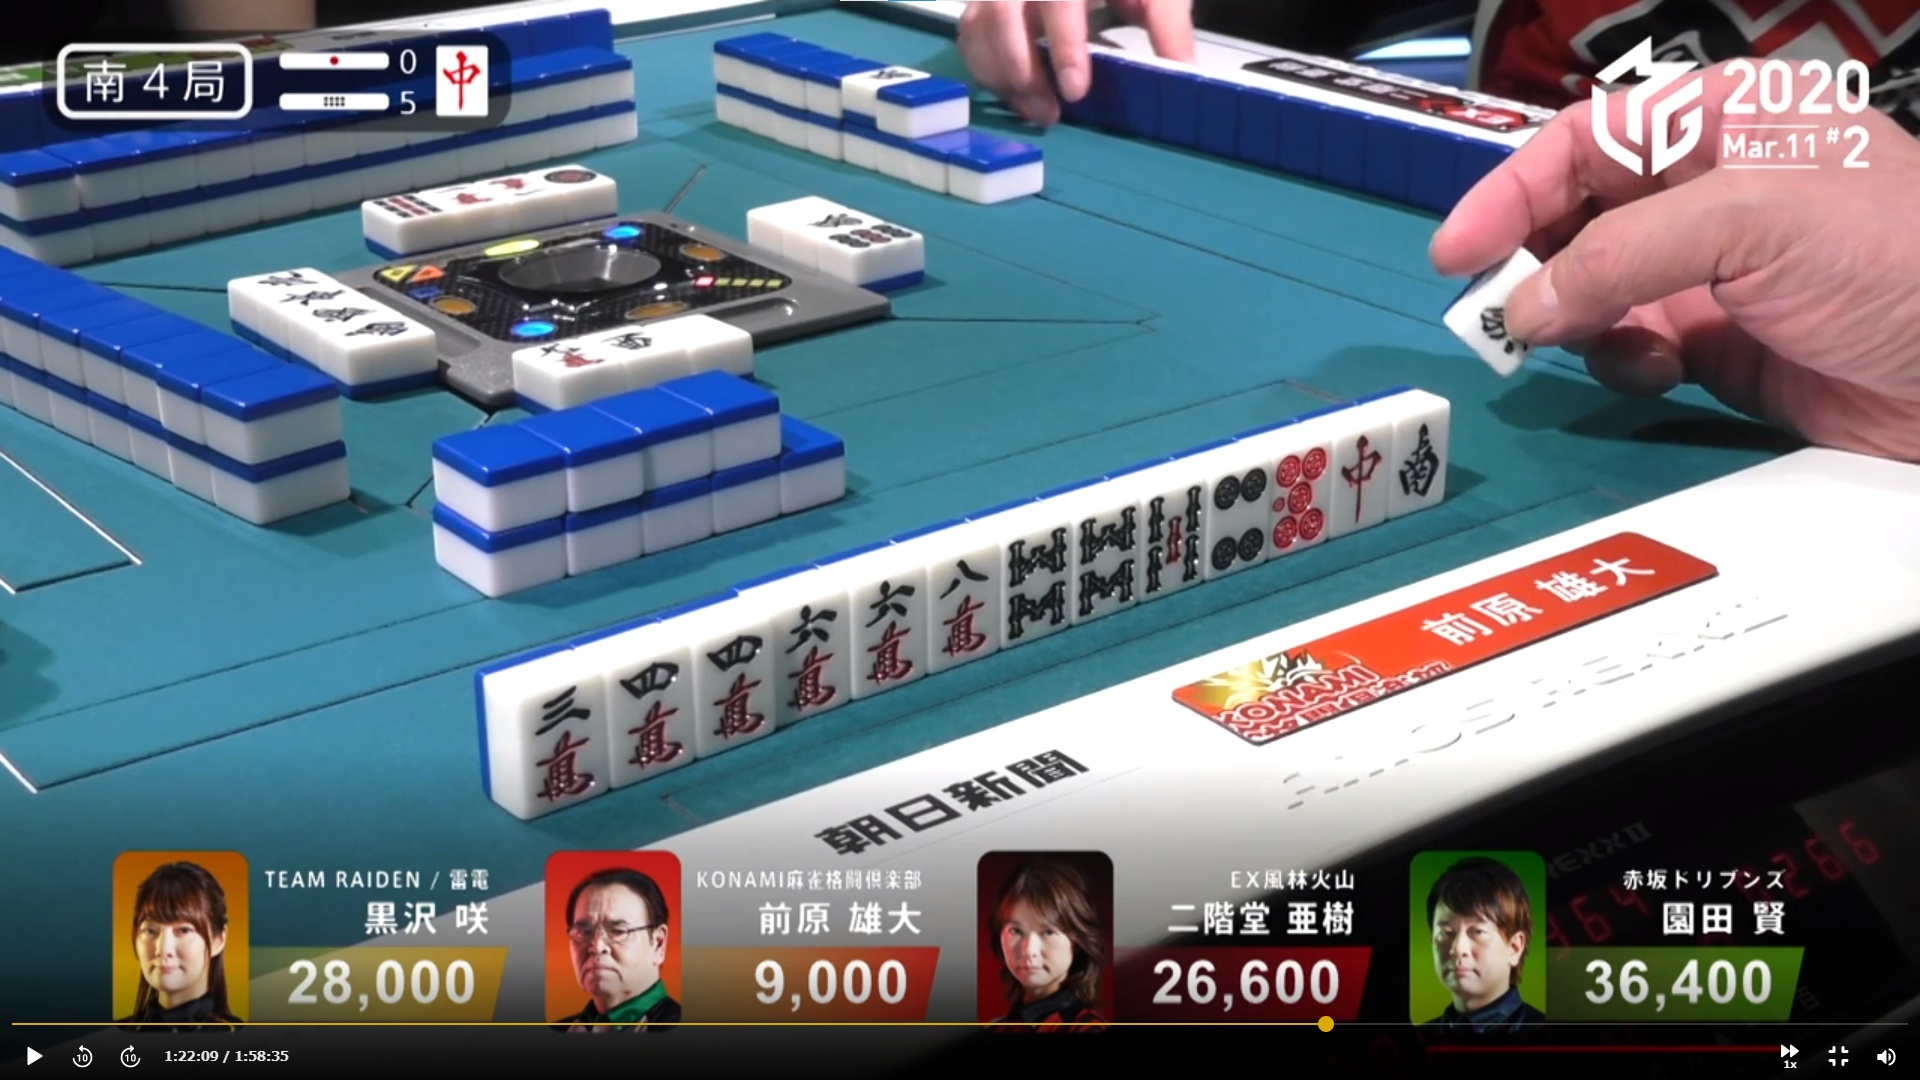3m: (520, 678, 599, 807)
4m: (607, 650, 691, 778), (691, 622, 773, 741)
4p: (1204, 462, 1265, 571)
5pr: (1273, 442, 1327, 558)
5s: (1139, 484, 1207, 595)
6m: (773, 592, 847, 713), (857, 570, 923, 692)
8m: (922, 546, 1002, 674)
8s: (1073, 502, 1141, 621), (1004, 524, 1067, 646)
chun: (1333, 422, 1385, 530)
hand_nan_4: (51, 37, 260, 120)
nan: (1391, 407, 1452, 522)
round_5: (266, 86, 429, 123)
team_konami: (1162, 628, 1456, 750)
